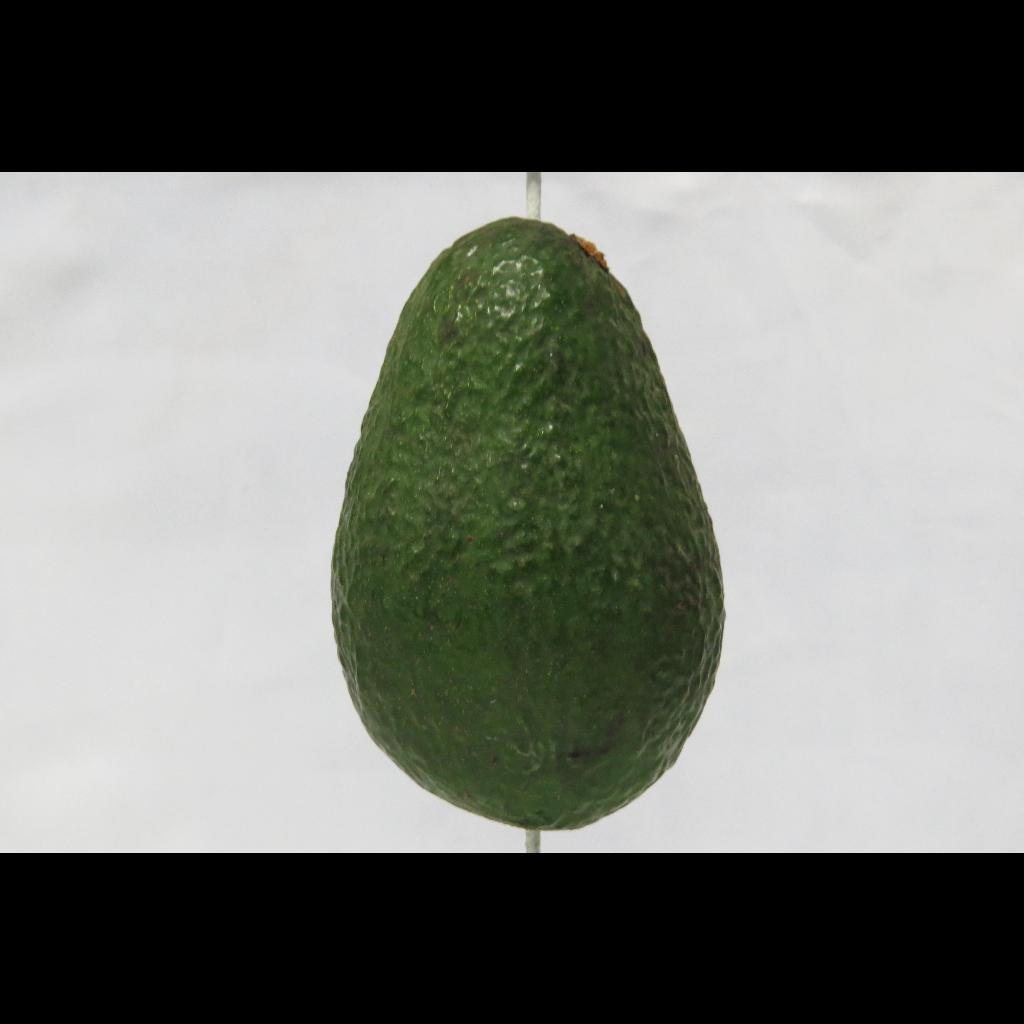Healthy: (308, 194, 742, 838)
